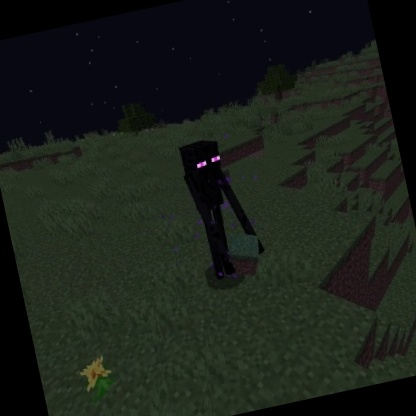enderman: (174, 128, 272, 286)
